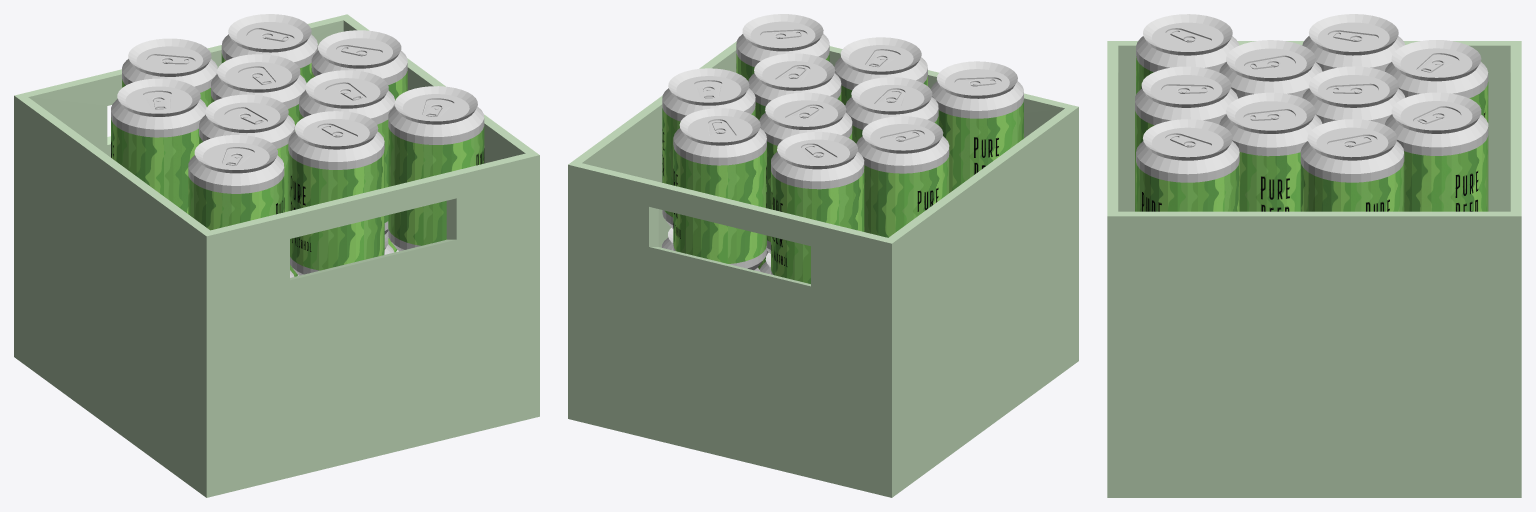
The model's file is Can_Crate.fbx.
3 renders of one model, left to right at view 1: azimuth 30°, elevation 25°; view 2: azimuth 150°, elevation 25°; view 3: azimuth 270°, elevation 25°, orthographic. The views are drawn at different scales.
Parts seen in each view (by area): view 1: Beer crate; view 2: Beer crate; view 3: Beer crate.
Boxes of the visible parts, x1,y1,x2,y2 form: Beer crate: (14,14,539,497); Beer crate: (568,14,1078,497); Beer crate: (1107,14,1521,497).
Size of the model in its own units: 200 by 173 by 200.
Materials: 4 (1 with a texture image).
